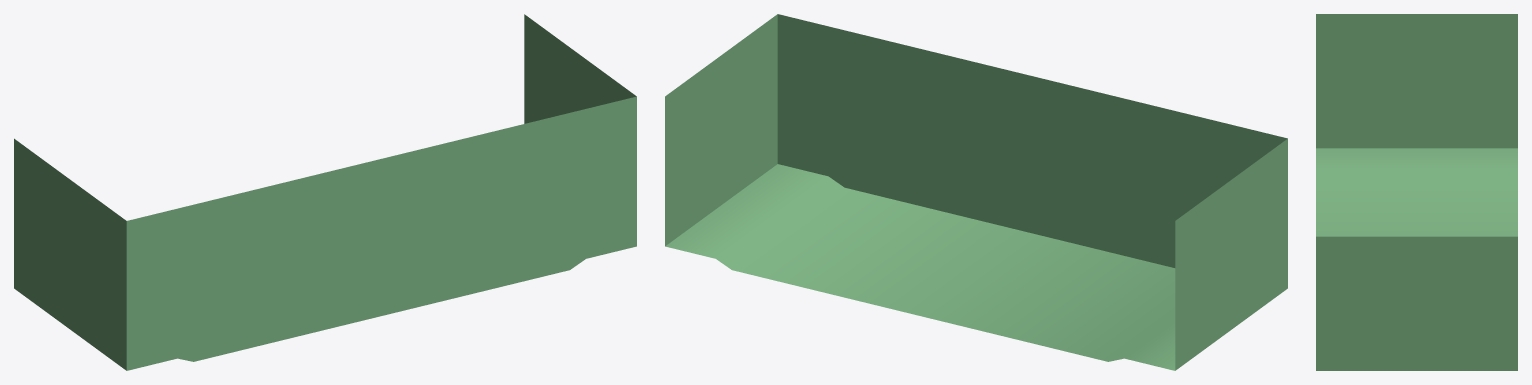
Rendered from Bridge_Cap_16_A_COL.FBX.
3 renders of one model, left to right at view 1: azimuth 30°, elevation 25°; view 2: azimuth 150°, elevation 25°; view 3: azimuth 270°, elevation 25°, orthographic. The views are drawn at different scales.
Visible parts, largest first — view 1: Bridge_Cap_16_A_COL; view 2: Bridge_Cap_16_A_COL; view 3: Bridge_Cap_16_A_COL.
Part boxes in pixels (bbox=[...]): Bridge_Cap_16_A_COL: bbox=[14, 14, 636, 370]; Bridge_Cap_16_A_COL: bbox=[665, 14, 1287, 370]; Bridge_Cap_16_A_COL: bbox=[1316, 14, 1517, 370].
Size of the model in its own units: 690 by 203 by 264.
